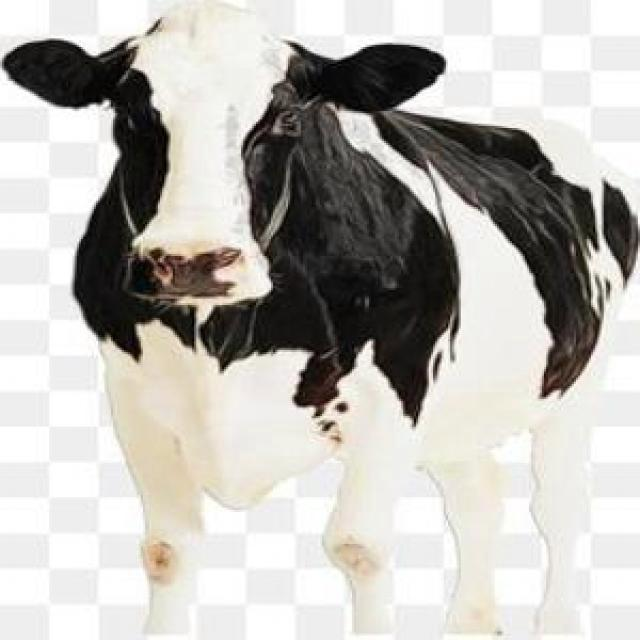cow: (2, 4, 640, 640)
